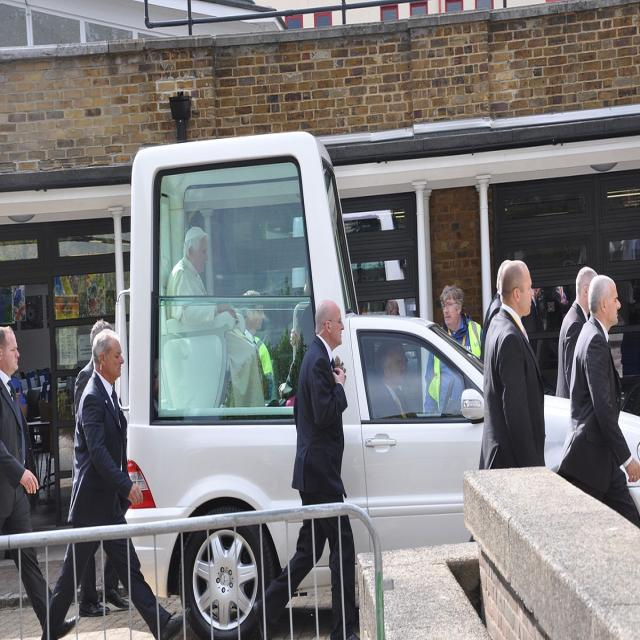body: (34, 326, 192, 639), (253, 300, 360, 639), (0, 322, 82, 639), (468, 259, 546, 543), (554, 273, 640, 528), (164, 222, 267, 409), (74, 315, 130, 616), (477, 248, 570, 390), (226, 283, 316, 411), (422, 282, 484, 413), (554, 265, 600, 400), (372, 342, 421, 418), (384, 295, 414, 398)
